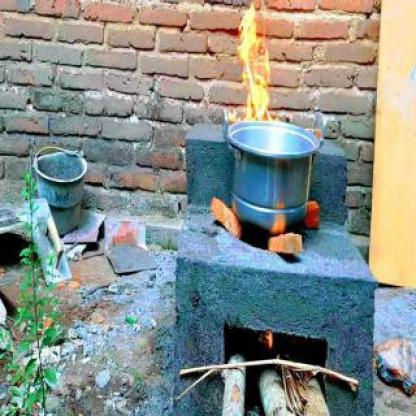fire: (226, 5, 281, 137), (270, 192, 292, 240), (264, 322, 277, 350)
